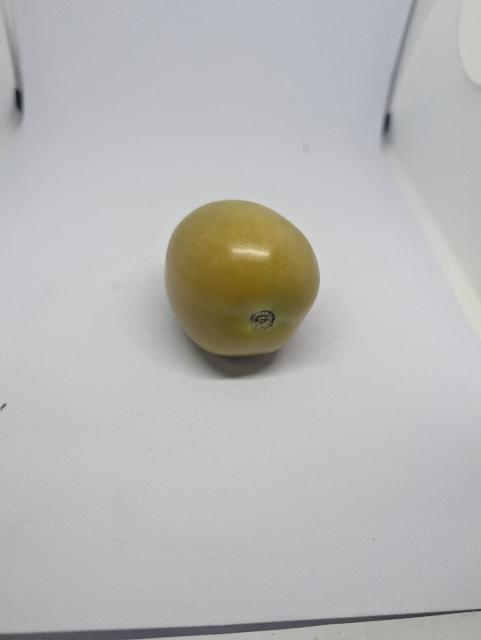breaker: (161, 198, 324, 360)
